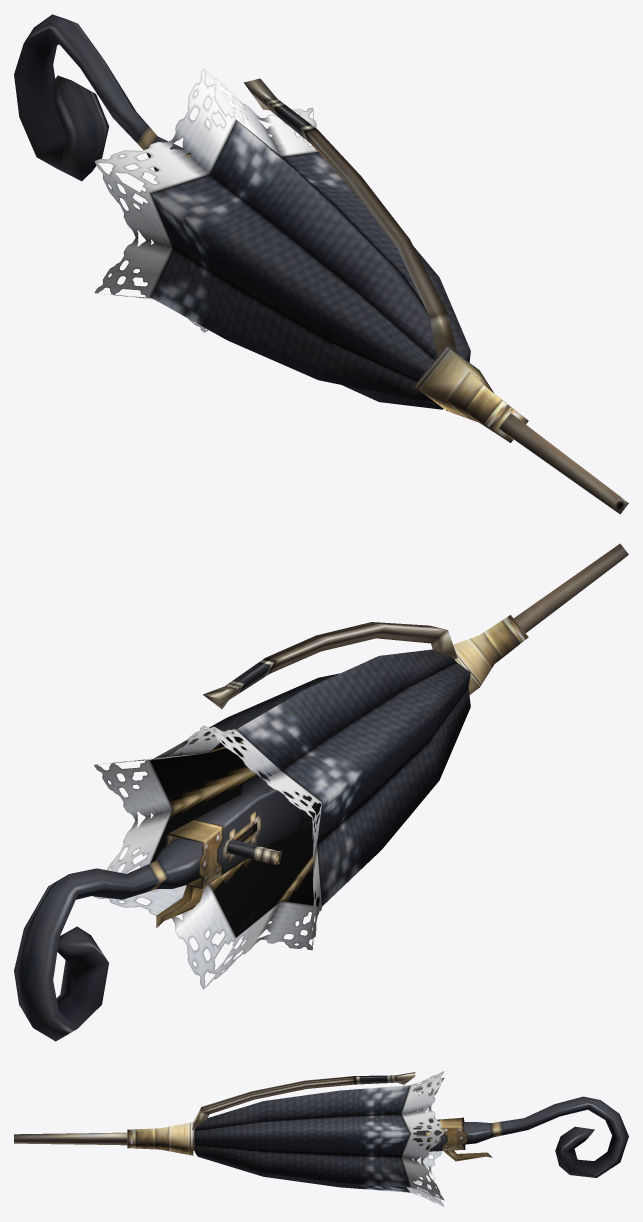
Rendered from we116_amh.OBJ.
3 renders of one model, top to bottom at view 1: azimuth 30°, elevation 25°; view 2: azimuth 150°, elevation 25°; view 3: azimuth 270°, elevation 25°, orthographic. The views are drawn at different scales.
Parts seen in each view (by area): view 1: mesh_0; view 2: mesh_0; view 3: mesh_0.
Part boxes in pixels (<box>): mesh_0: <box>14,14,628,514</box>; mesh_0: <box>14,543,628,1041</box>; mesh_0: <box>14,1071,628,1206</box>.
Bounding box in the file's own units: 43.05 × 50.18 × 202.
Materials: 3 (3 with a texture image).
